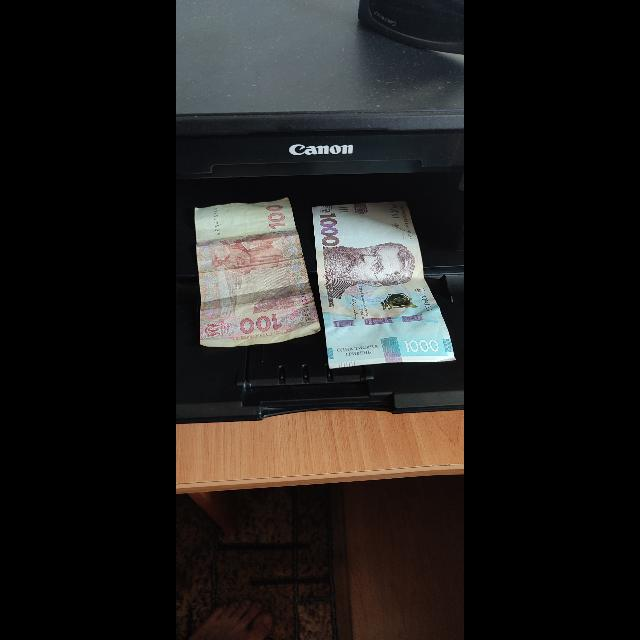1000uah: (313, 200, 456, 369)
100uah: (193, 199, 322, 347)
